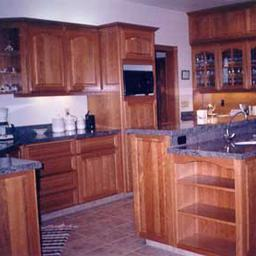Armario: (116, 24, 158, 133)
Lavaplatos: (215, 114, 255, 149)
